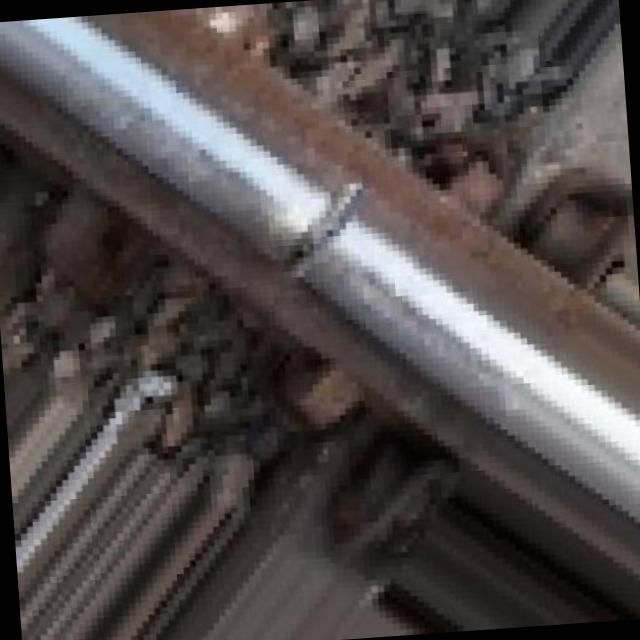defective: (93, 28, 600, 602)
